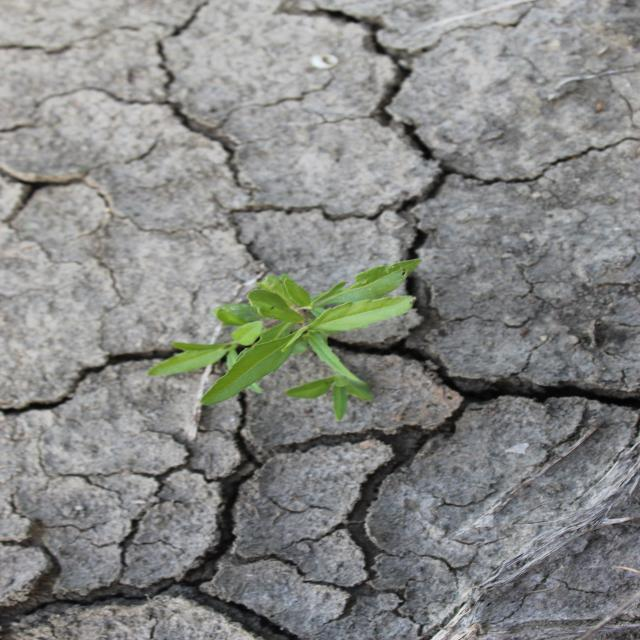Eclipta: (147, 256, 425, 421)
